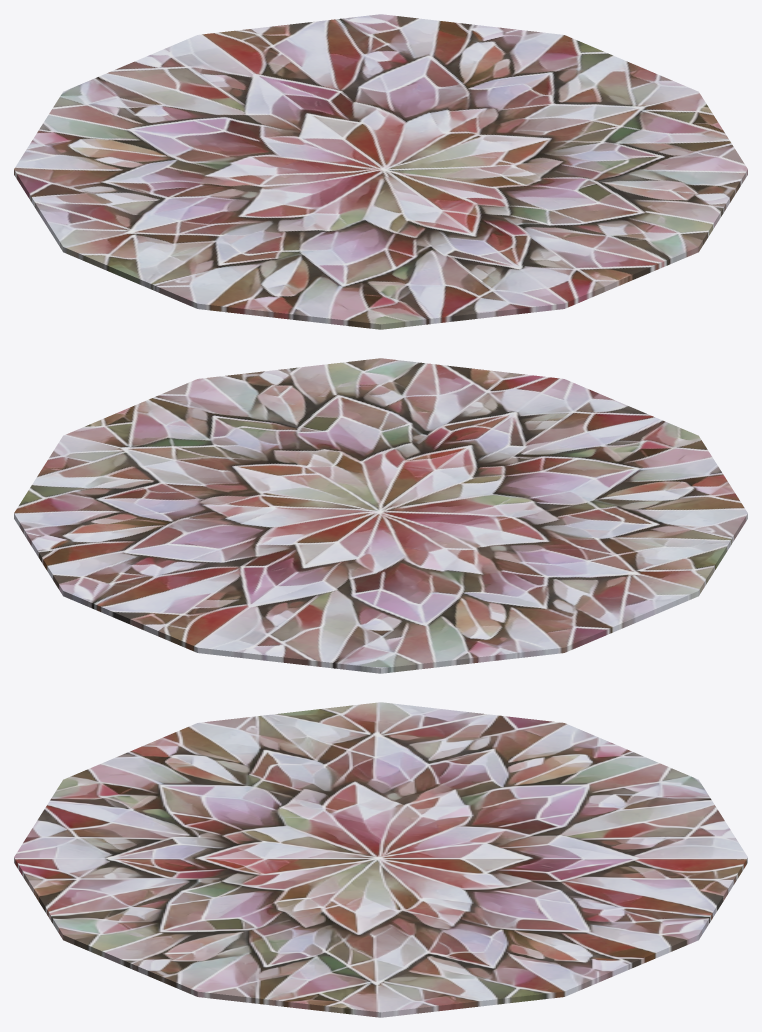
File: salt-crystal-rug.glb
3 renders of one model, top to bottom at view 1: azimuth 30°, elevation 25°; view 2: azimuth 150°, elevation 25°; view 3: azimuth 270°, elevation 25°, orthographic.
Visible parts, largest first — view 1: carpet; view 2: carpet; view 3: carpet.
Part boxes in pixels (bbox=[...]): carpet: bbox=[14, 14, 747, 329]; carpet: bbox=[14, 358, 747, 673]; carpet: bbox=[14, 702, 747, 1017].
Size of what is drawn, in the model's own units: 4 by 0.0326 by 4.
Materials: 1 (1 with a texture image).
